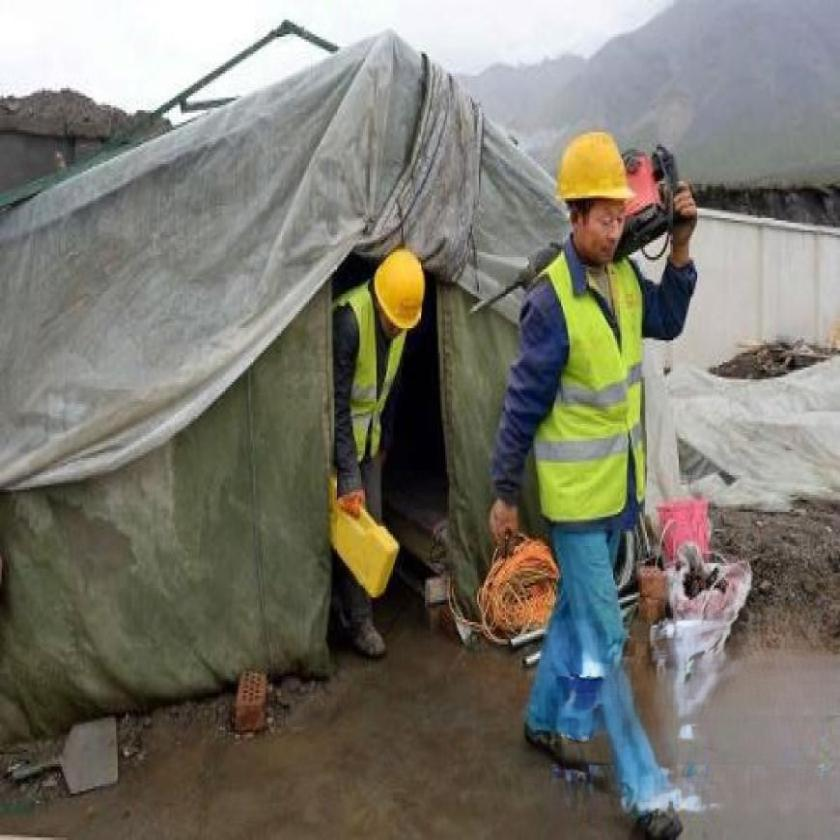Con_casco: (559, 130, 631, 271)
